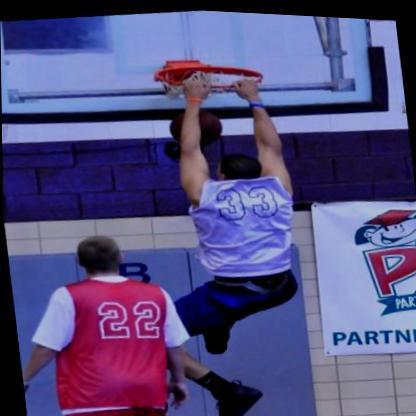basketball: (165, 100, 225, 147)
rim: (150, 52, 268, 94)
